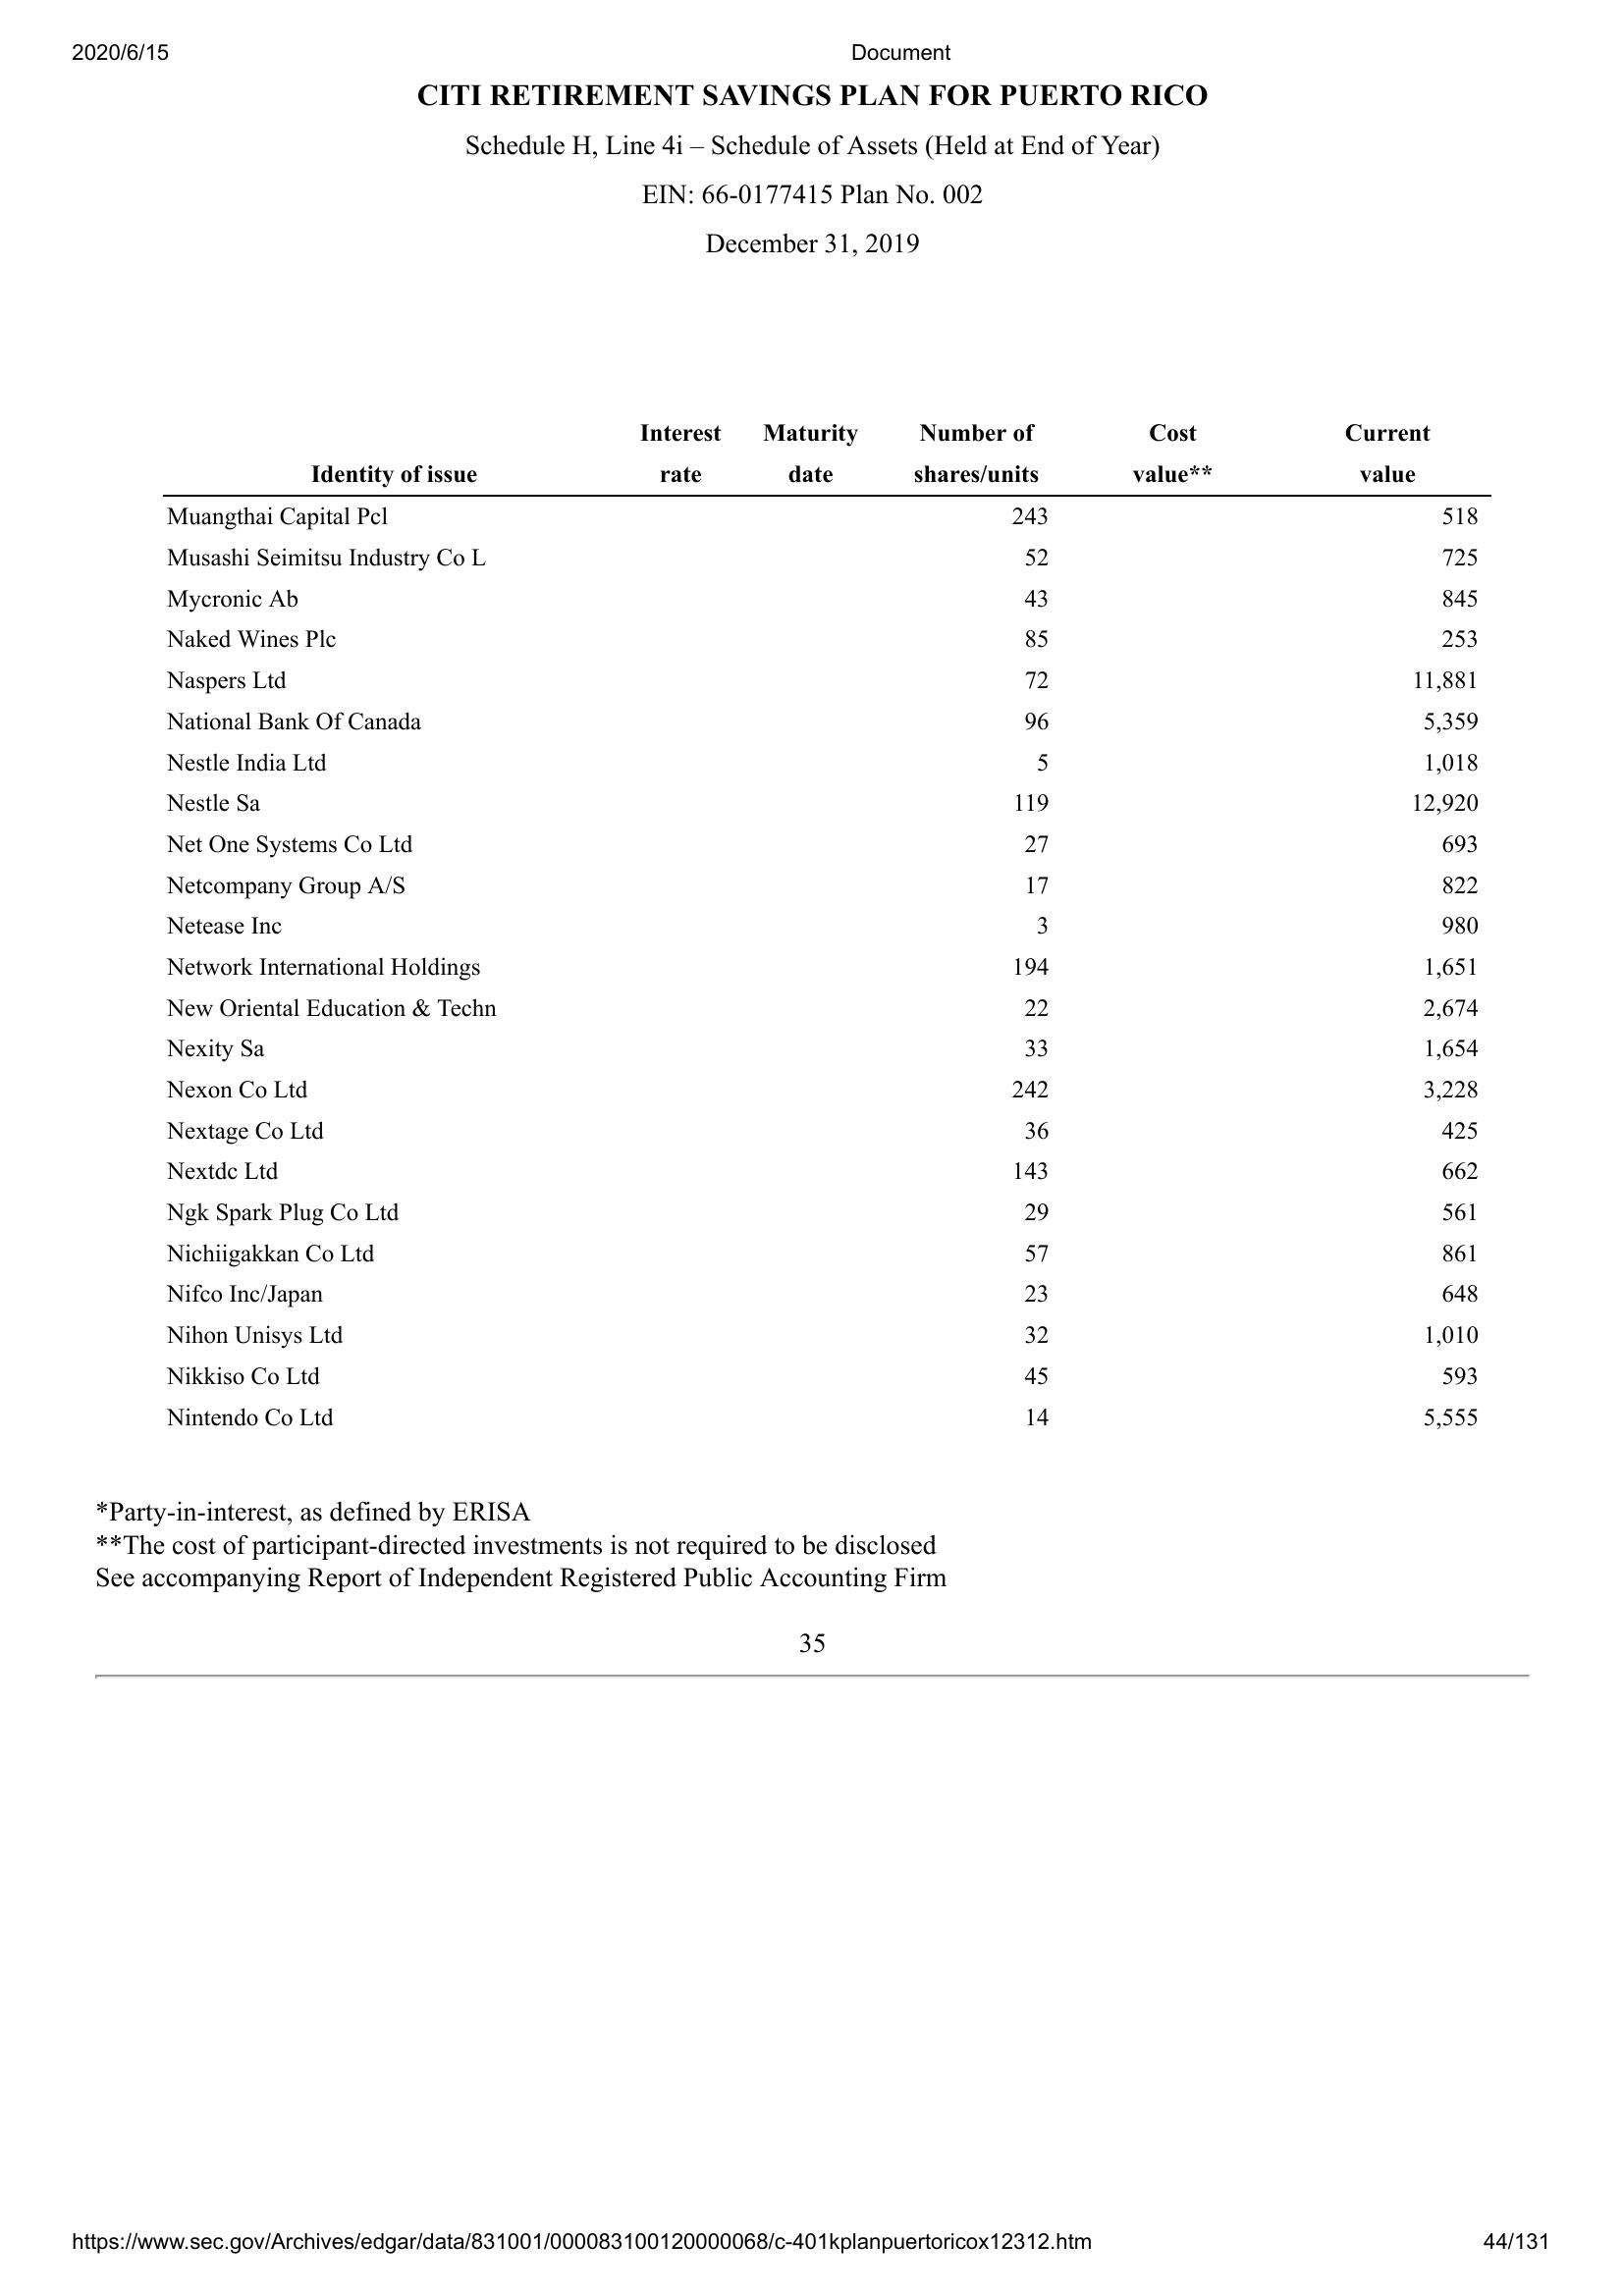table: (162, 418, 1498, 1446)
